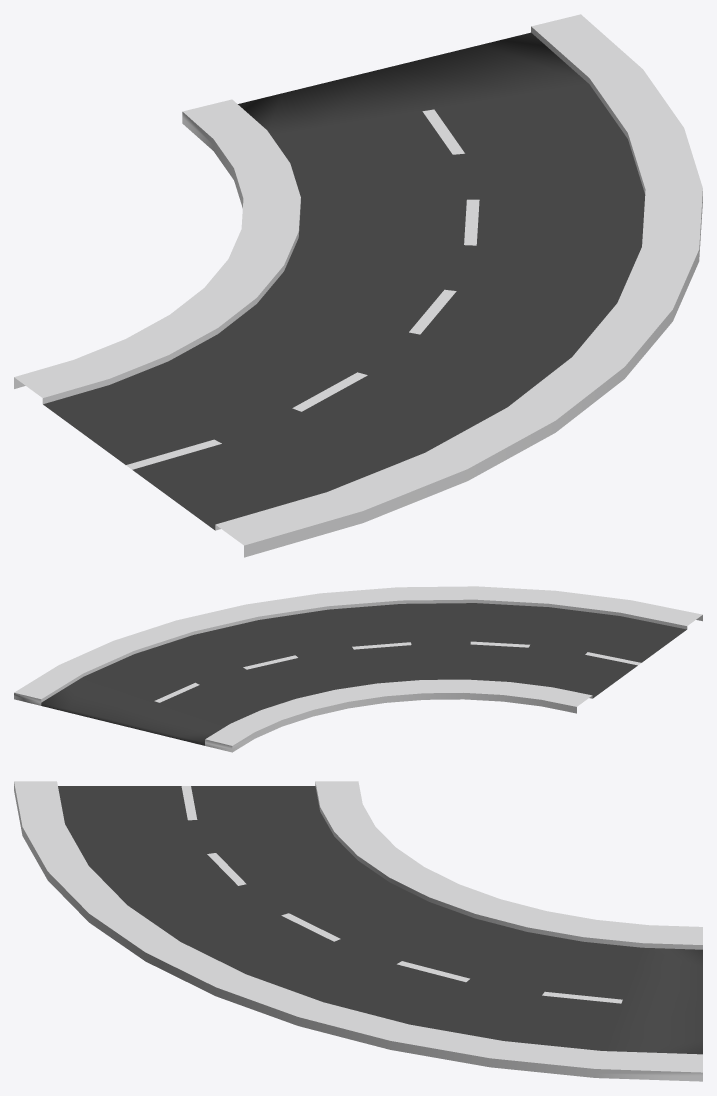
The model's file is two-lane-curved-road-piece-edited.fbx.
3 views of the same model, one above another, from view 1: azimuth 30°, elevation 25°; view 2: azimuth 150°, elevation 25°; view 3: azimuth 270°, elevation 25° (orthographic). The views are drawn at different scales.
Visible parts, largest first — view 1: two-lane-curved-road-piece; view 2: two-lane-curved-road-piece; view 3: two-lane-curved-road-piece.
Part boxes in pixels (x1=…): two-lane-curved-road-piece: x1=14, y1=14, x2=702, y2=557; two-lane-curved-road-piece: x1=14, y1=586, x2=702, y2=752; two-lane-curved-road-piece: x1=14, y1=781, x2=702, y2=1081.
Size of the model in its own units: 224020 by 3250 by 224020.
